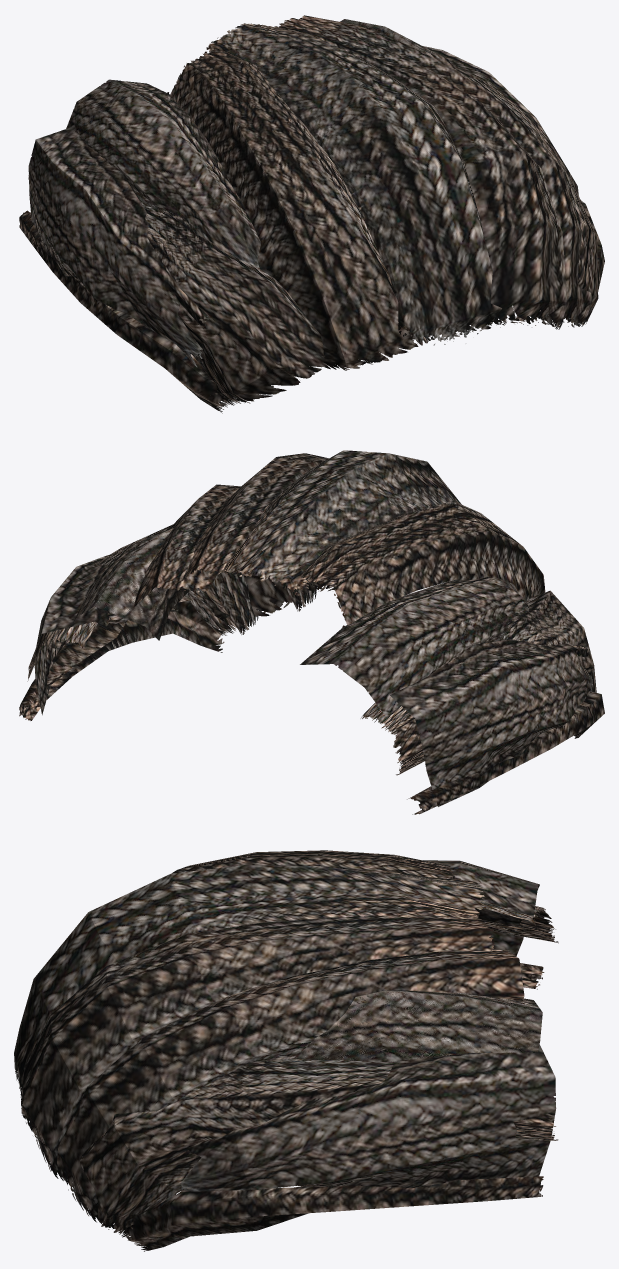
File: Braids (1).fbx
3 renders of one model, top to bottom at view 1: azimuth 30°, elevation 25°; view 2: azimuth 150°, elevation 25°; view 3: azimuth 270°, elevation 25°, orthographic. The views are drawn at different scales.
Parts seen in each view (by area): view 1: Braids; view 2: Braids; view 3: Braids.
Part boxes in pixels (x1,y1,x2,y2): Braids: (19,15,604,413); Braids: (19,450,604,814); Braids: (14,850,558,1251).
Size of the model in its own units: 14.73 by 7.95 by 14.3.
Materials: 1 (1 with a texture image).
